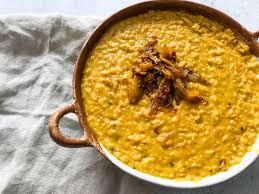Dhal Curry: (85, 3, 256, 185)
